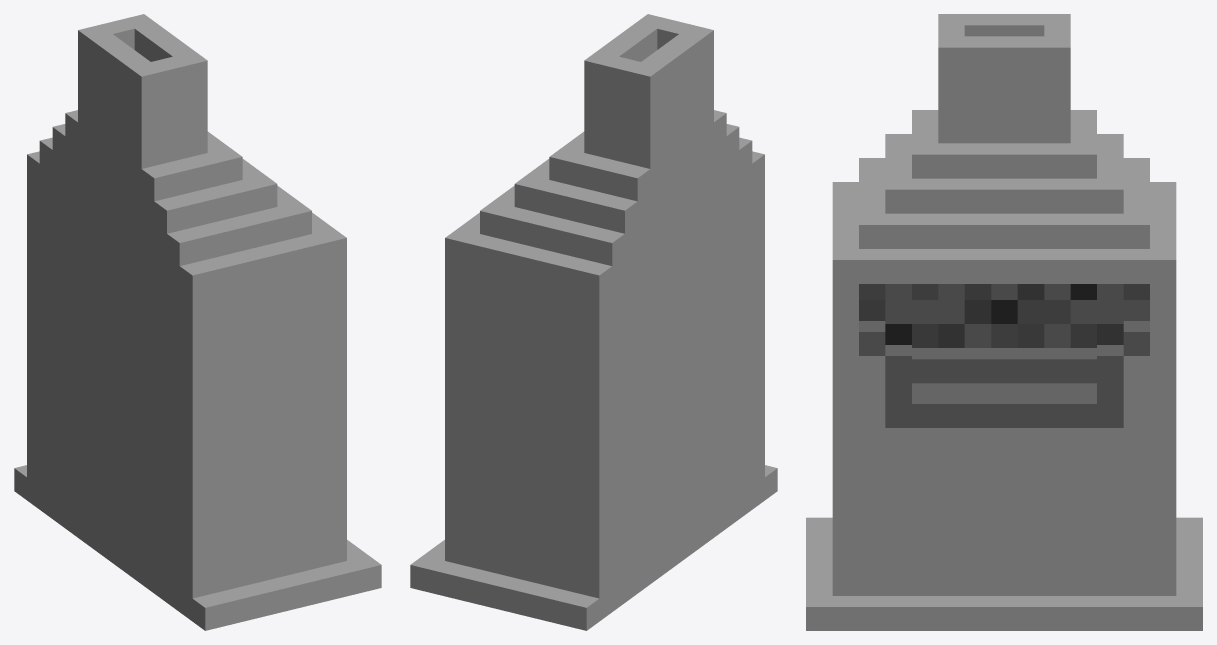
Rendered from Forge.obj.
3 views of the same model, side by side, from view 1: azimuth 30°, elevation 25°; view 2: azimuth 150°, elevation 25°; view 3: azimuth 270°, elevation 25° (orthographic). The views are drawn at different scales.
Visible parts, largest first — view 1: Forge; view 2: Forge; view 3: Forge.
Part boxes in pixels (x1=…): Forge: x1=14, y1=14, x2=381, y2=630; Forge: x1=410, y1=14, x2=777, y2=630; Forge: x1=806, y1=14, x2=1202, y2=630.
Size of the model in its own units: 8 by 22 by 15.
1 material, 1 textured.
